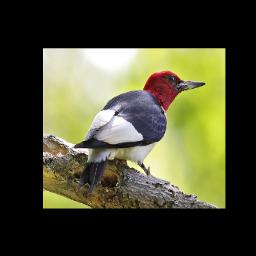Woodpecker: (74, 72, 205, 194)
